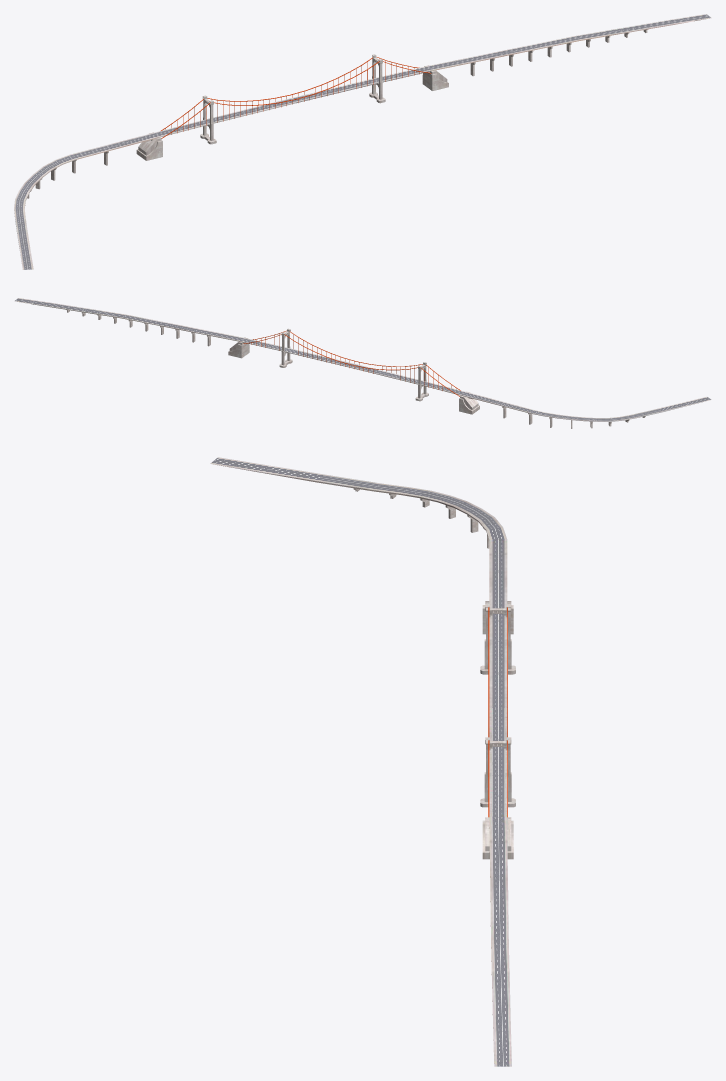
3 views of the same model, one above another, from view 1: azimuth 30°, elevation 25°; view 2: azimuth 150°, elevation 25°; view 3: azimuth 270°, elevation 25° (orthographic). The views are drawn at different scales.
Parts seen in each view (by area): view 1: 582597e0afaa6a101c47fd25.001; view 2: 582597e0afaa6a101c47fd25.001; view 3: 582597e0afaa6a101c47fd25.001.
Part boxes in pixels (x1,y1,x2,y2): 582597e0afaa6a101c47fd25.001: (14, 14, 711, 269); 582597e0afaa6a101c47fd25.001: (14, 298, 711, 428); 582597e0afaa6a101c47fd25.001: (210, 457, 515, 1066).
Bounding box in the file's own units: 1862 × 97.55 × 395.
1 material, 1 textured.
